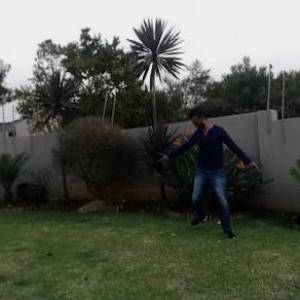land: (138, 94, 266, 252)
